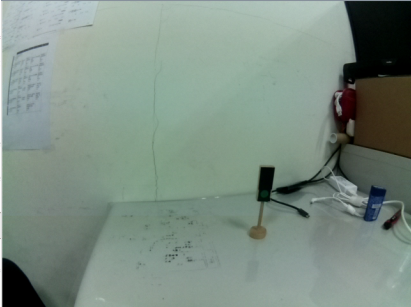Green: (256, 161, 276, 205)
